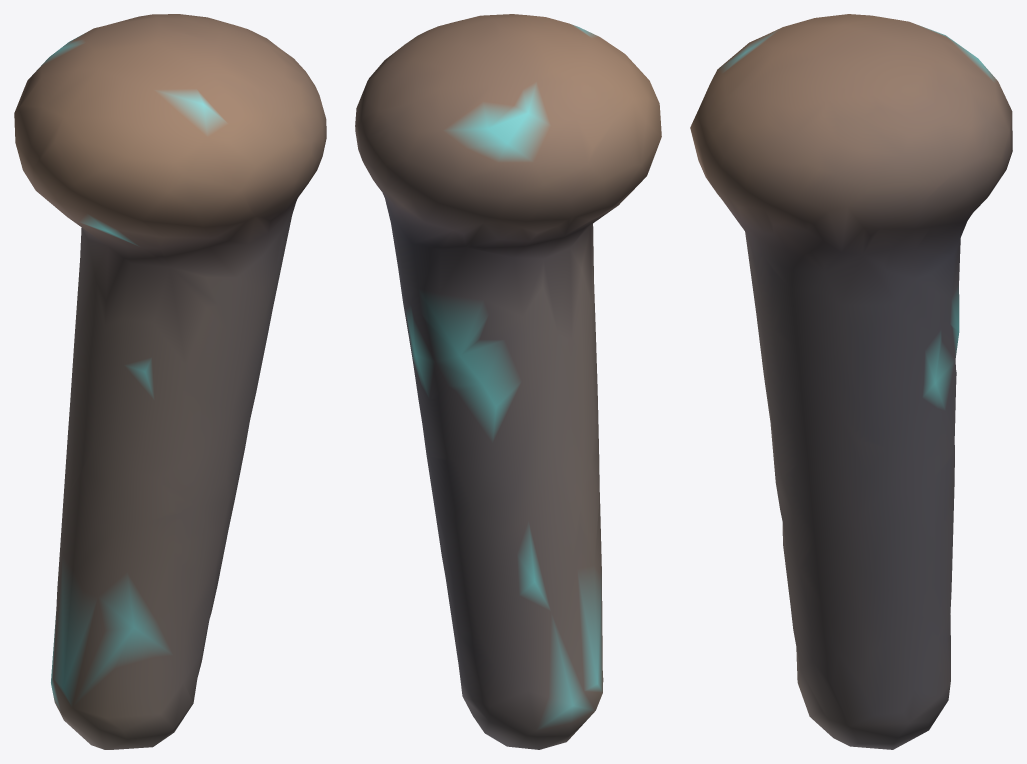
Rendered from husk_uarm_l.glb.
3 renders of one model, left to right at view 1: azimuth 30°, elevation 25°; view 2: azimuth 150°, elevation 25°; view 3: azimuth 270°, elevation 25°, orthographic. The views are drawn at different scales.
Visible parts, largest first — view 1: geometry_0; view 2: geometry_0; view 3: geometry_0.
Part boxes in pixels (<box>): geometry_0: <box>14,14,326,749</box>; geometry_0: <box>355,14,661,749</box>; geometry_0: <box>690,14,1012,749</box>.
Bounding box in the file's own units: 0.3035 × 0.7508 × 0.3024.
